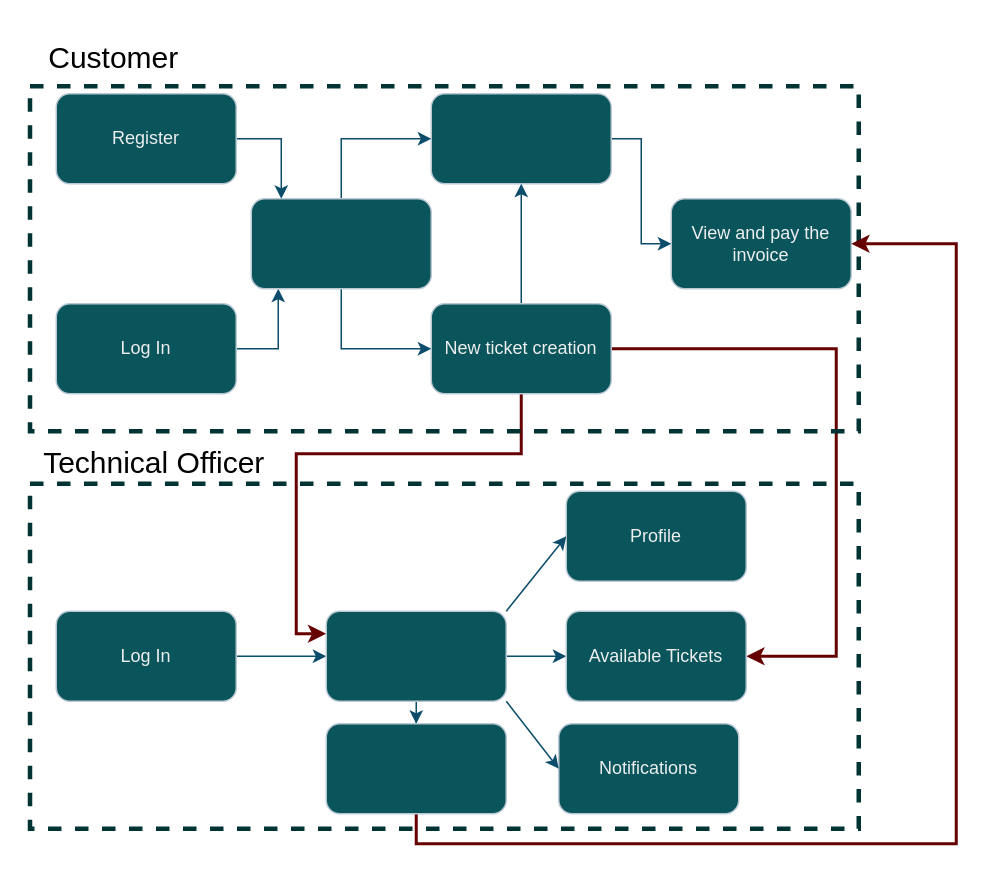
Some shapes in this 995 by 882 pixel diagram are drawn without their labels. Here are the shapes that lost their labels. From the top down, the box of each, then its label:
(430, 92, 611, 184): see the status of the previous tickets
(250, 197, 431, 289): Customer dash board
(325, 610, 506, 701): Dashboard
(325, 722, 506, 814): Invoice Creation
